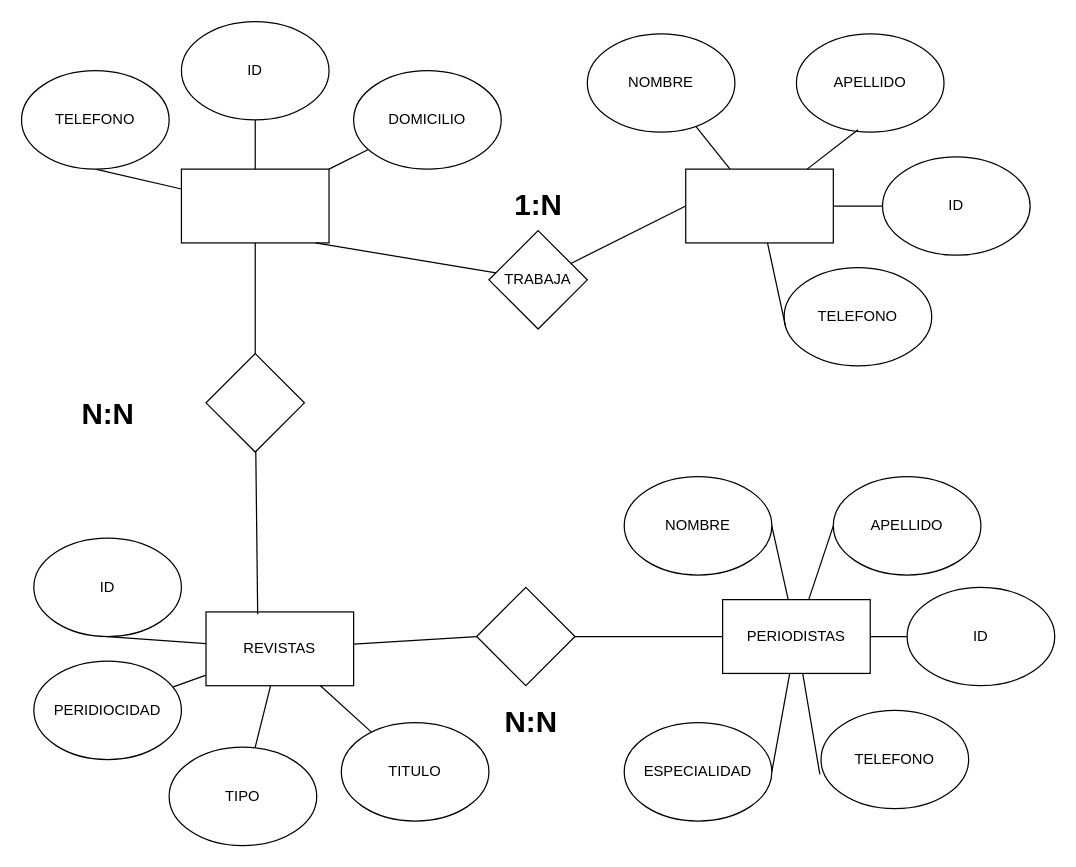
The diagram is 1076 pixels wide and 867 high, and some of its shapes have lost their labels. The box of each missing label's shape, as (x1, y1, x2, y2) in pixels:
EMPLEADOS: (684, 168, 833, 243)
ESCRIBIR: (475, 586, 575, 686)
PUBLICA: (205, 352, 304, 452)
SUCURSALES: (180, 168, 329, 243)
